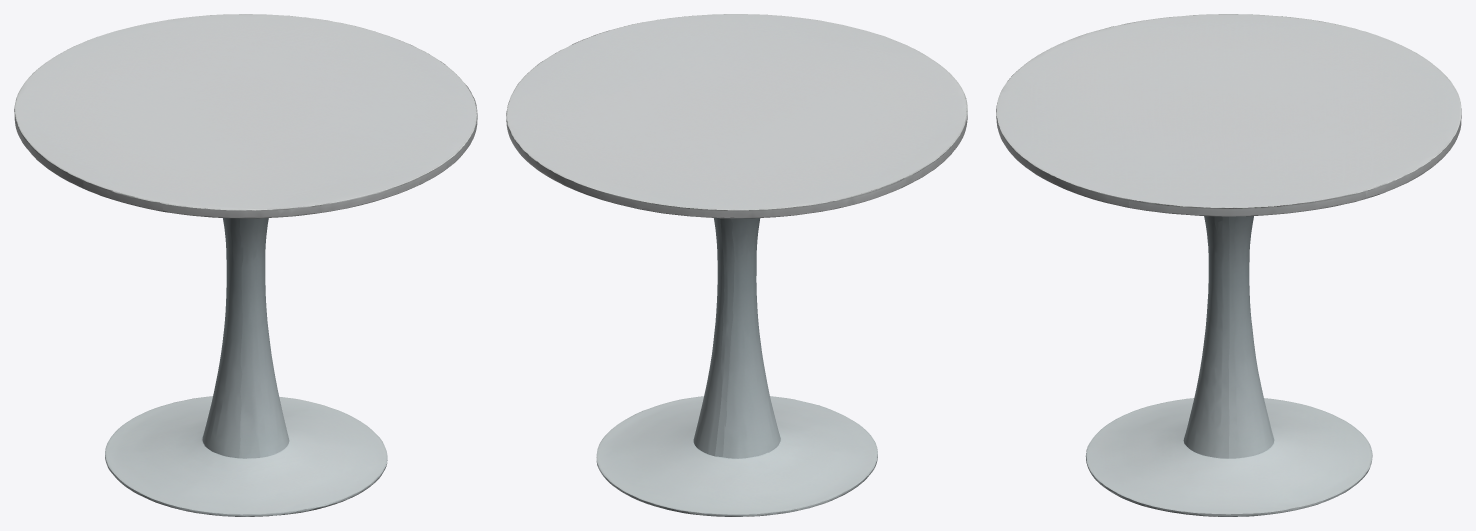
Rendered from kitchen_table.glb.
3 views of the same model, side by side, from view 1: azimuth 30°, elevation 25°; view 2: azimuth 150°, elevation 25°; view 3: azimuth 270°, elevation 25° (orthographic).
Visible parts, largest first — view 1: world; view 2: world; view 3: world.
Part boxes in pixels (bbox=[...]): world: bbox=[14, 14, 477, 516]; world: bbox=[506, 14, 967, 516]; world: bbox=[996, 14, 1461, 516].
Bounding box in the file's own units: 0.9867 × 0.8242 × 0.9994.
Materials: 1 (1 with a texture image).
